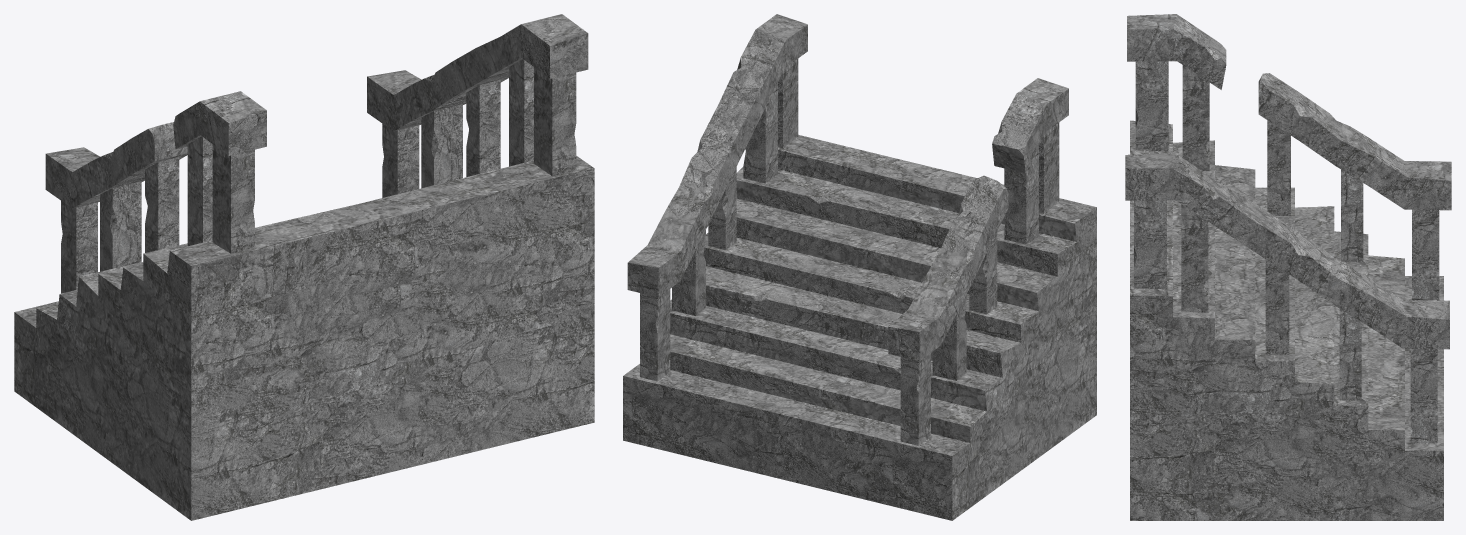
Rendered from materials_3_stairs_3.fbx.
3 views of the same model, side by side, from view 1: azimuth 30°, elevation 25°; view 2: azimuth 150°, elevation 25°; view 3: azimuth 270°, elevation 25° (orthographic). The views are drawn at different scales.
Visible parts, largest first — view 1: materials_3_stairs_3; view 2: materials_3_stairs_3; view 3: materials_3_stairs_3.
Boxes of the visible parts, x1,y1,x2,y2 form: materials_3_stairs_3: [14, 14, 594, 520]; materials_3_stairs_3: [623, 14, 1096, 520]; materials_3_stairs_3: [1125, 14, 1451, 520].
Size of the model in its own units: 234 by 218 by 185.
